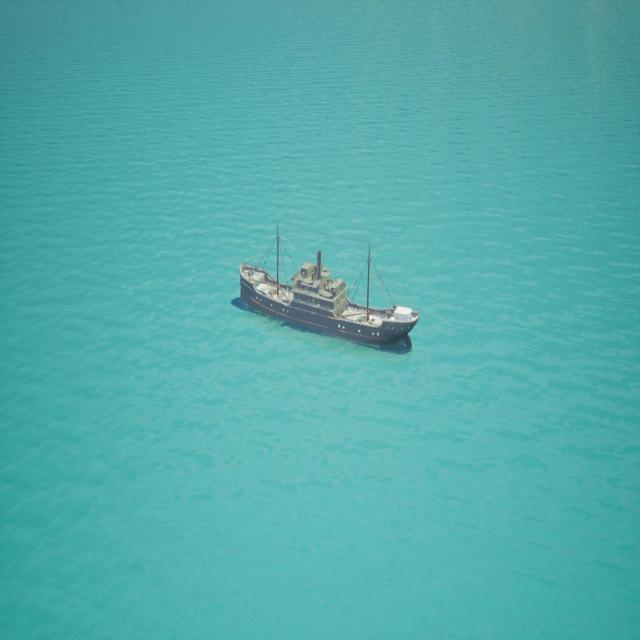fishing ship: (238, 237, 418, 353)
